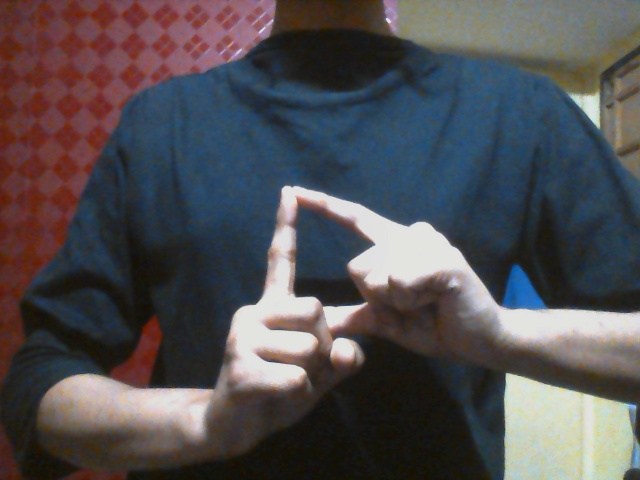D: (220, 182, 479, 455)
